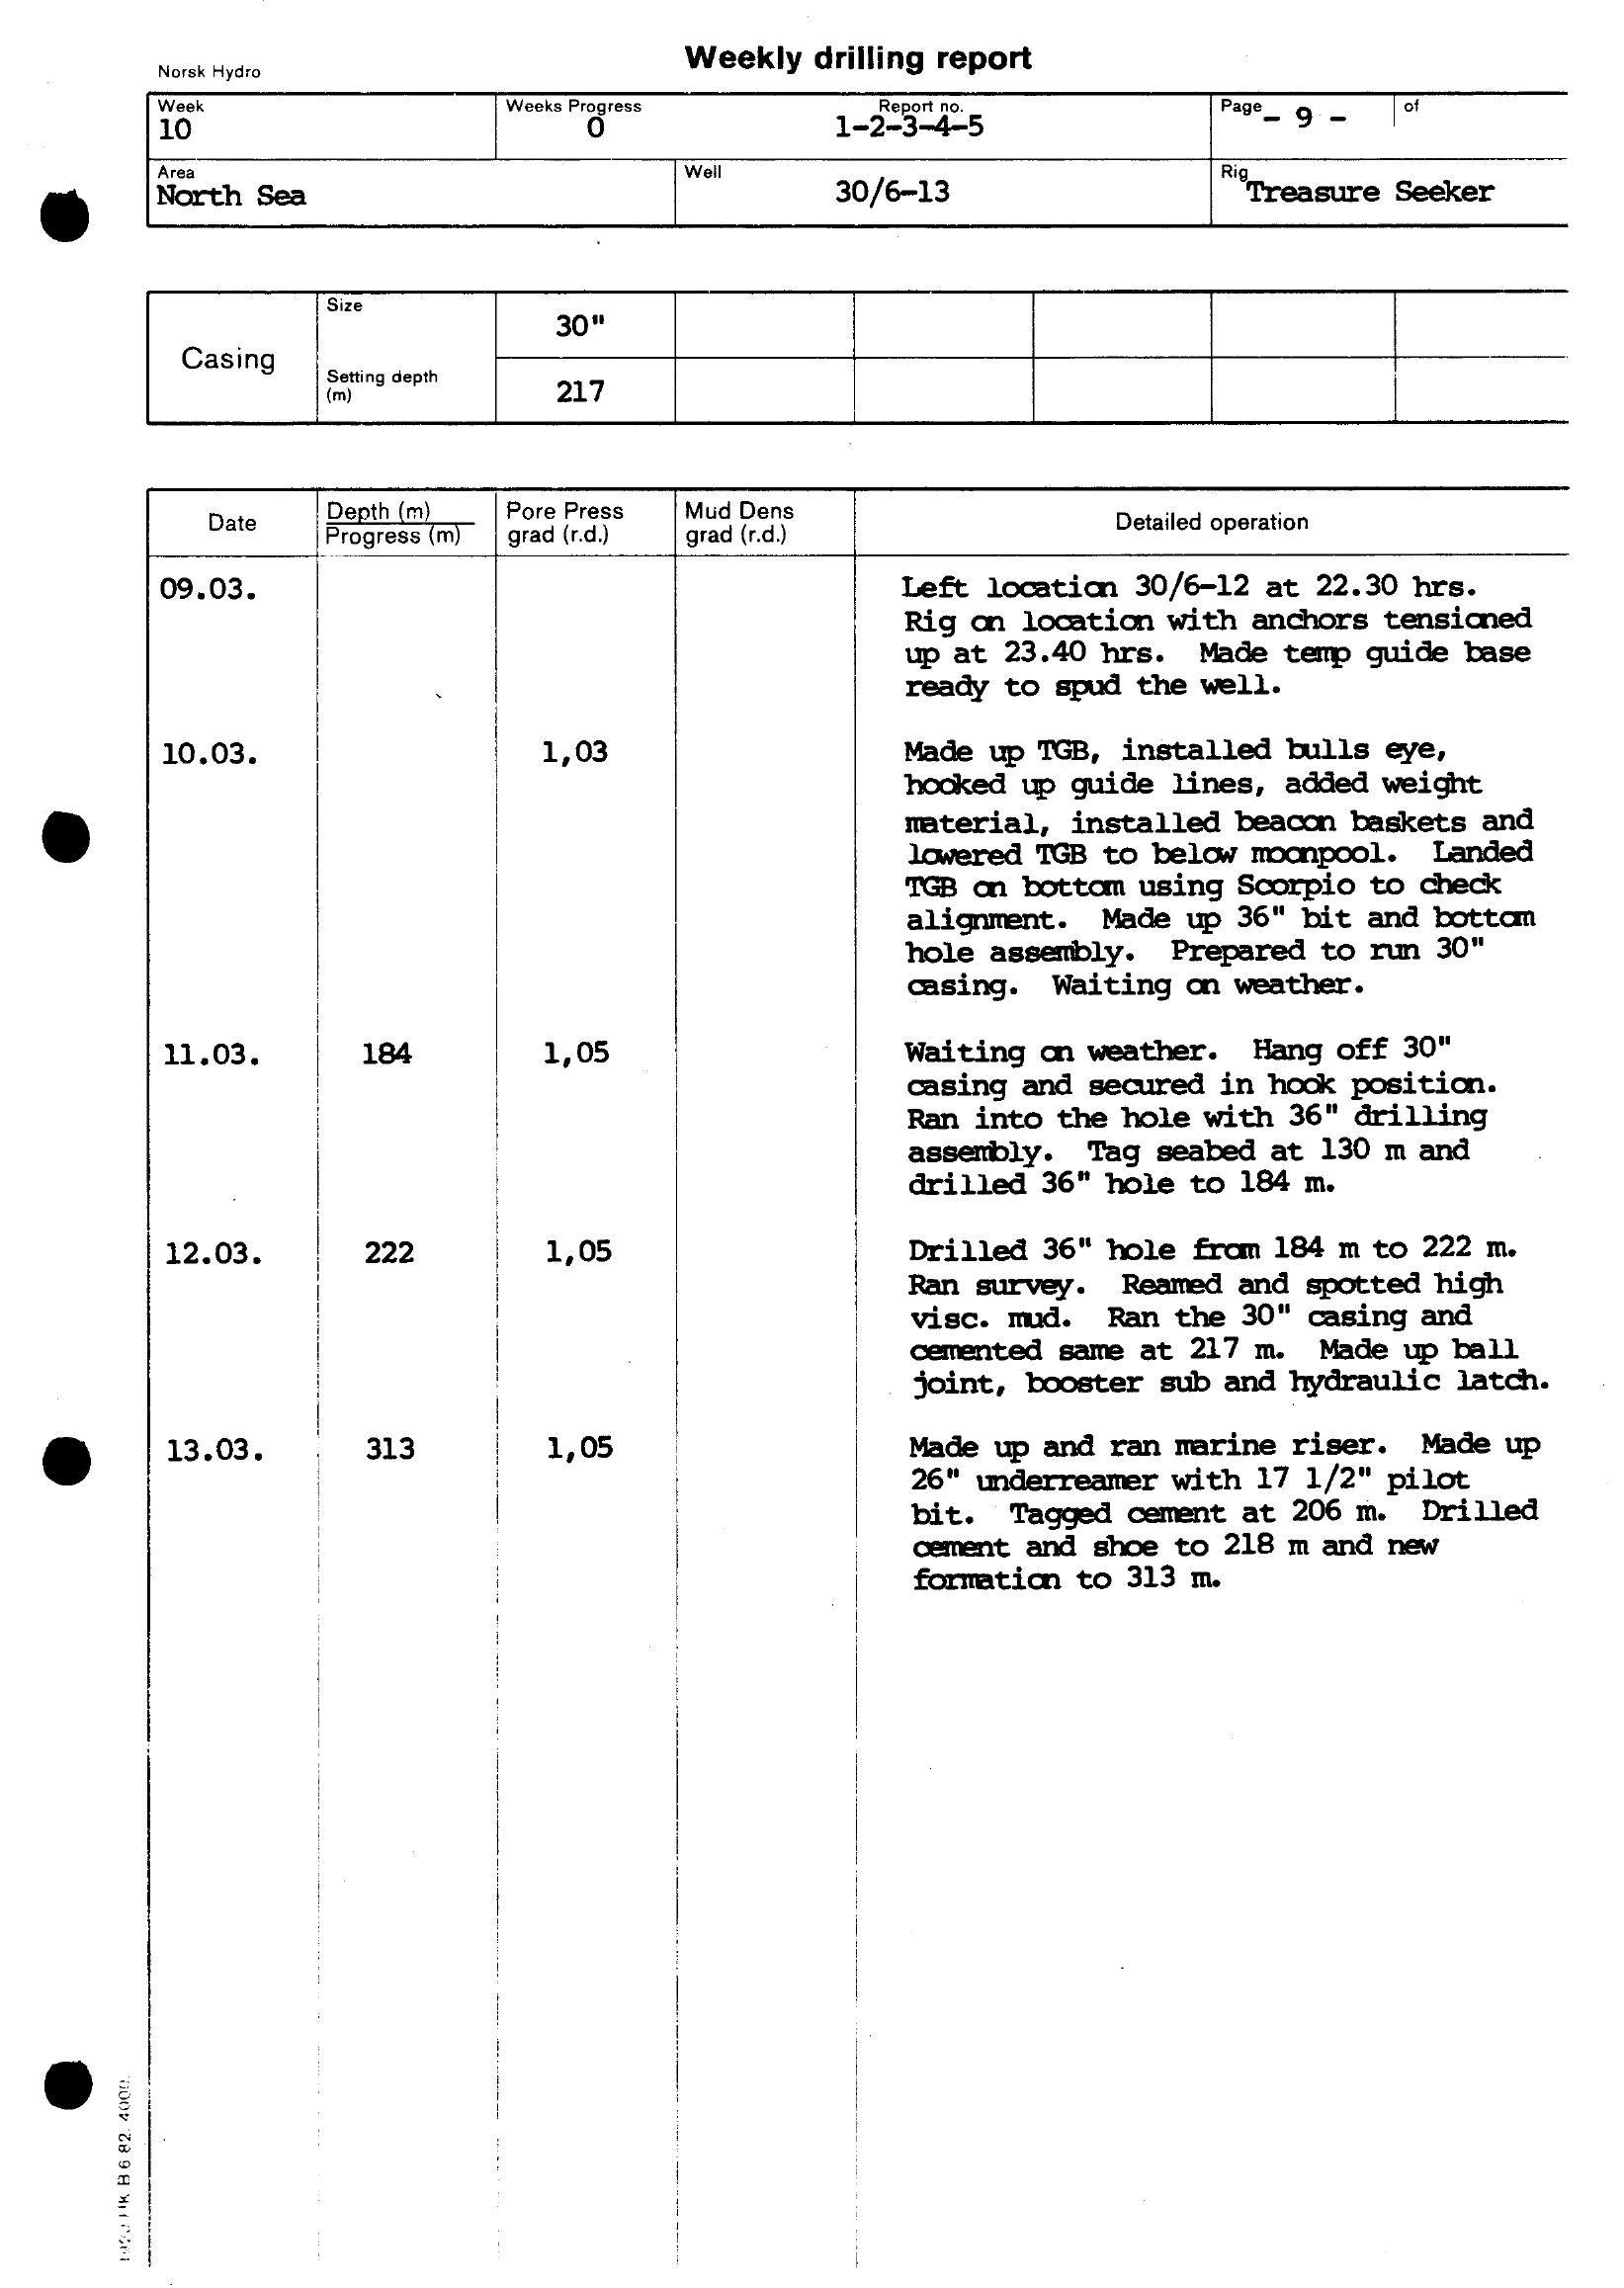graph: (123, 76, 1624, 1676)
text: (659, 39, 1051, 81)
